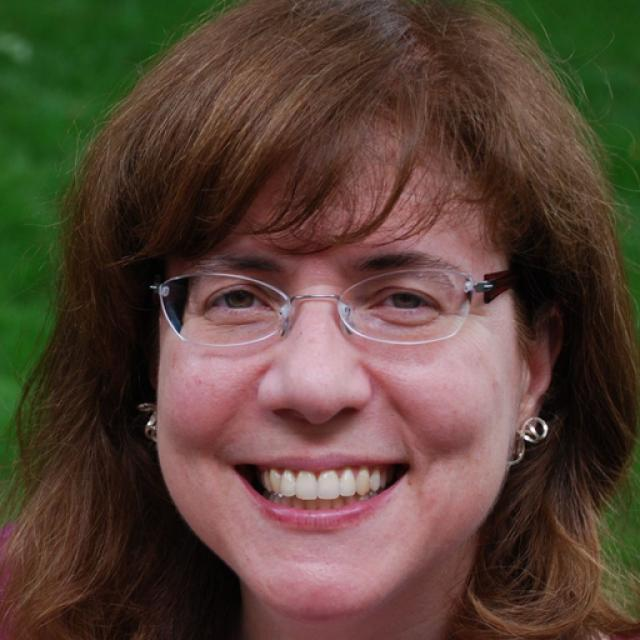happy: (146, 99, 529, 622)
